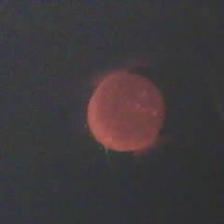infertile: (84, 67, 170, 153)
